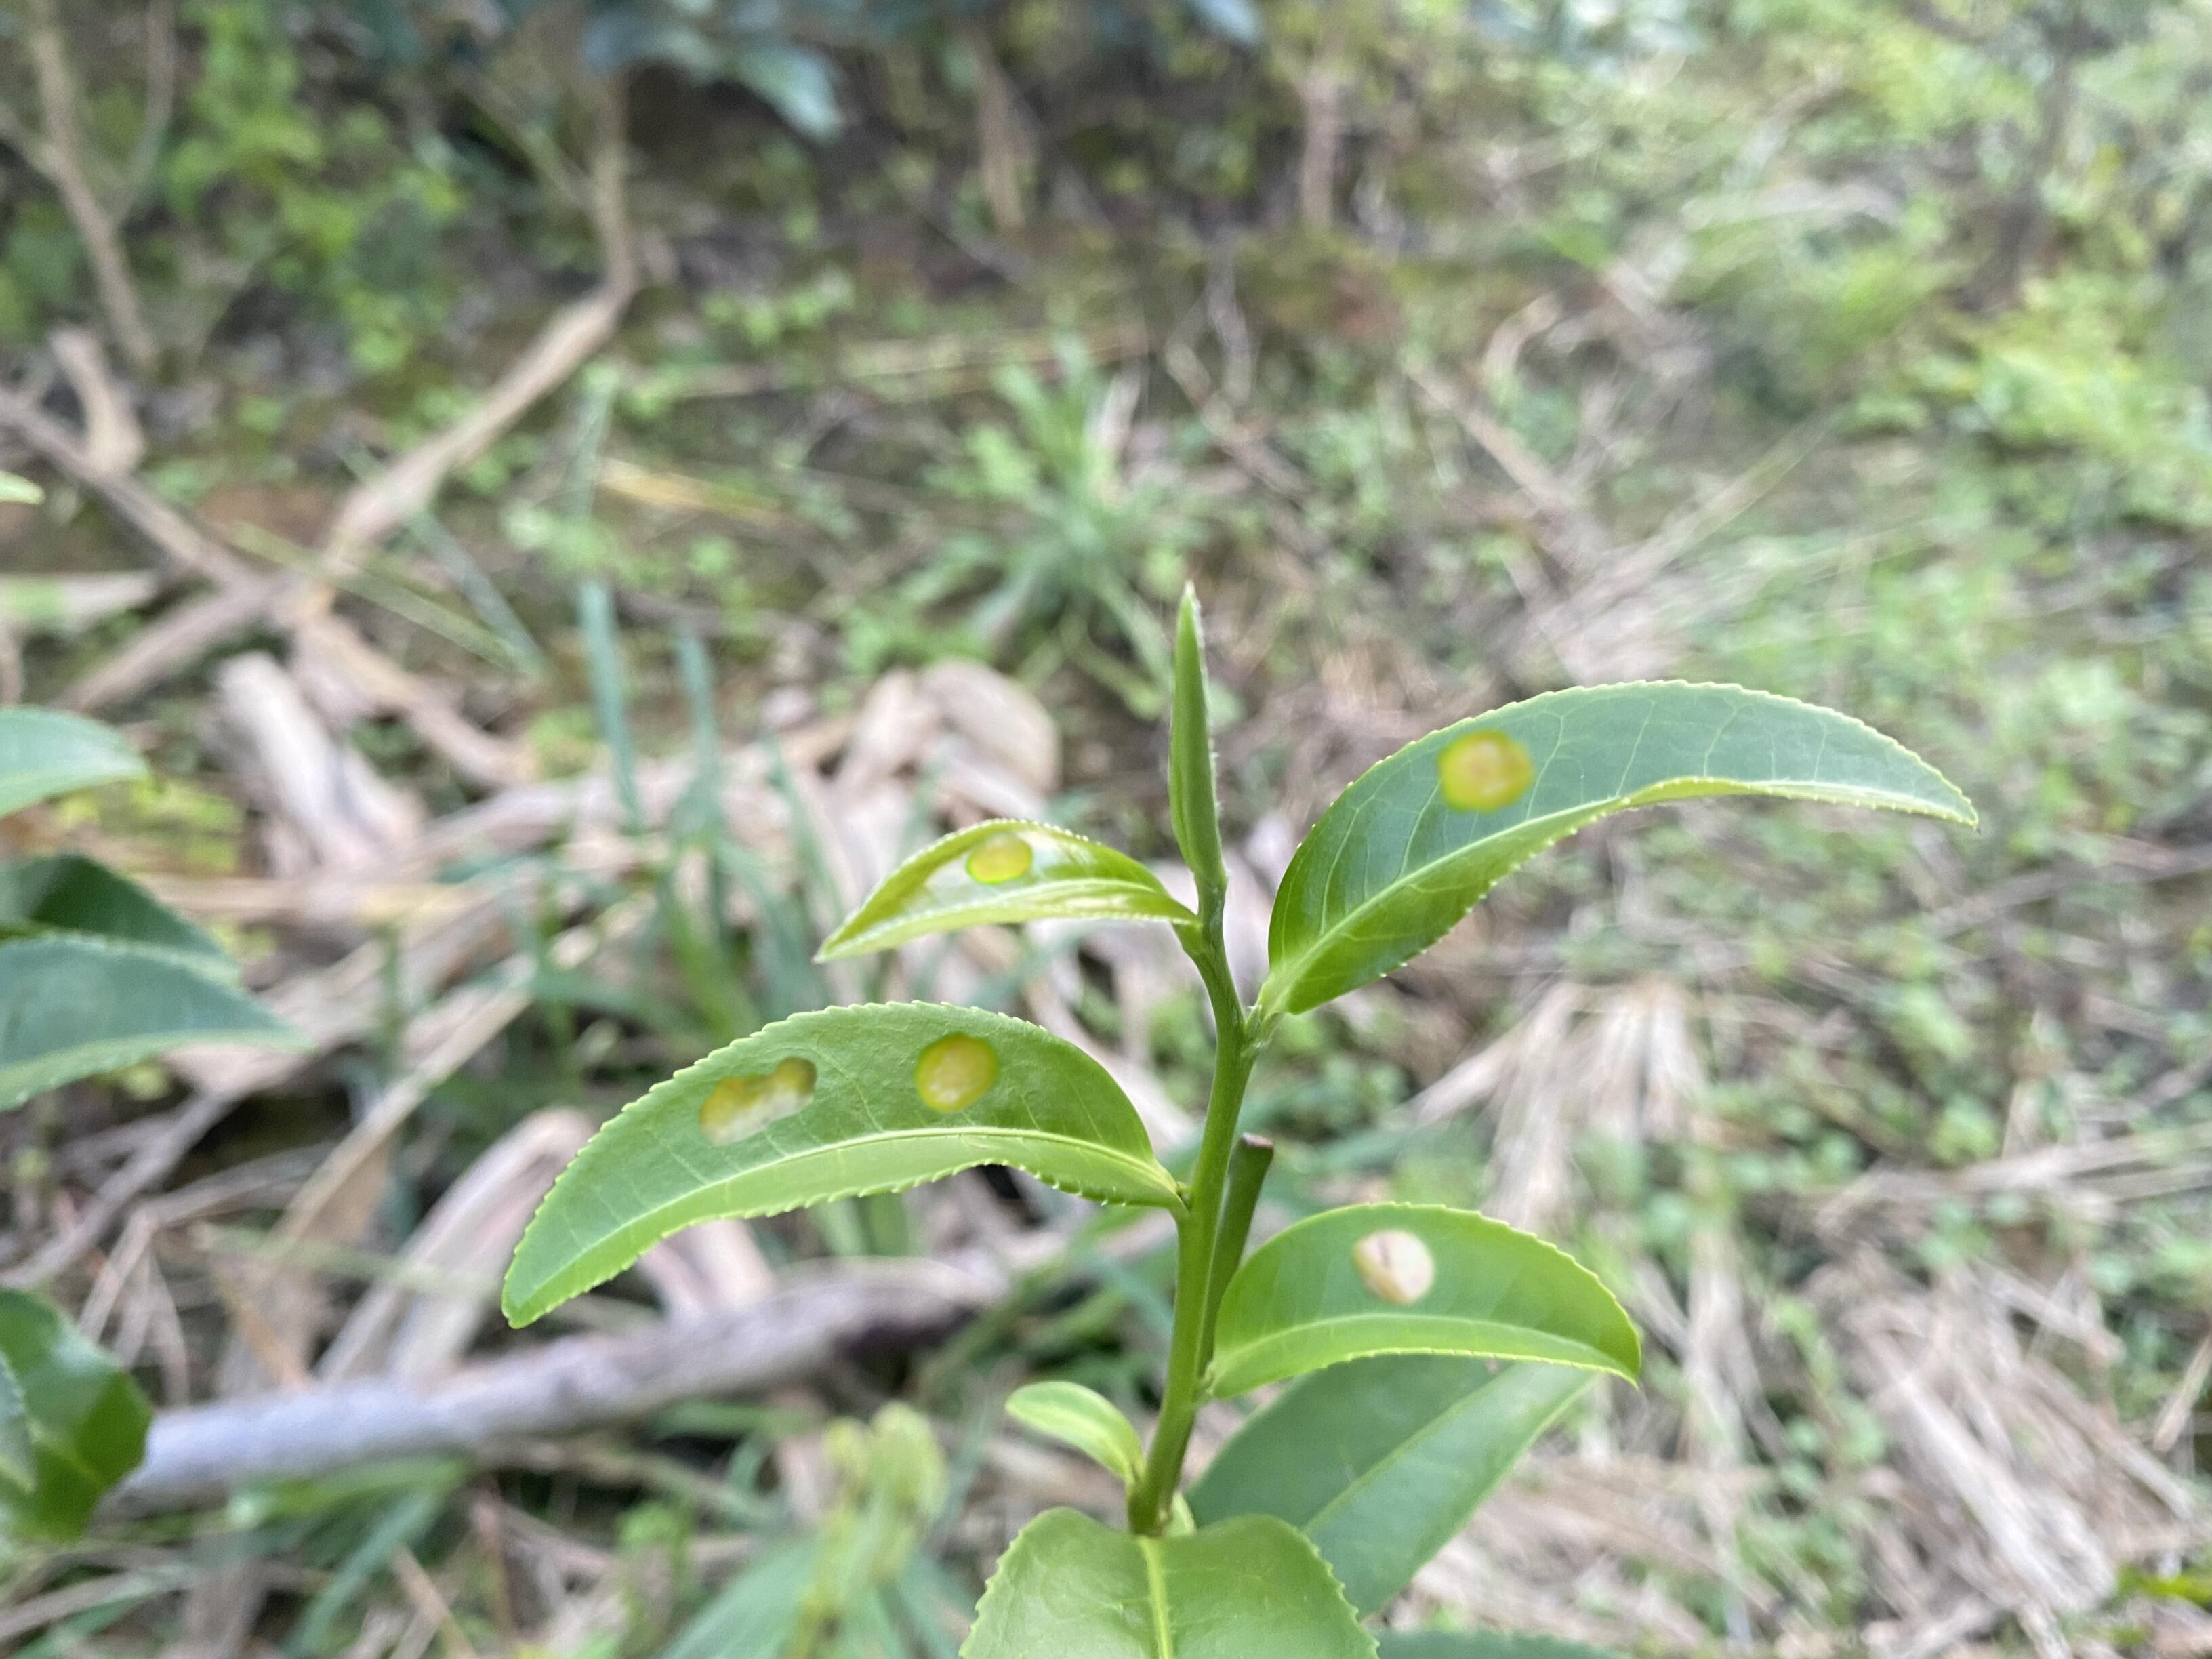chabing_high: (498, 997, 1176, 1330)
chabing_low: (1268, 680, 1982, 1012), (1207, 1201, 1646, 1389), (810, 816, 1200, 965)
